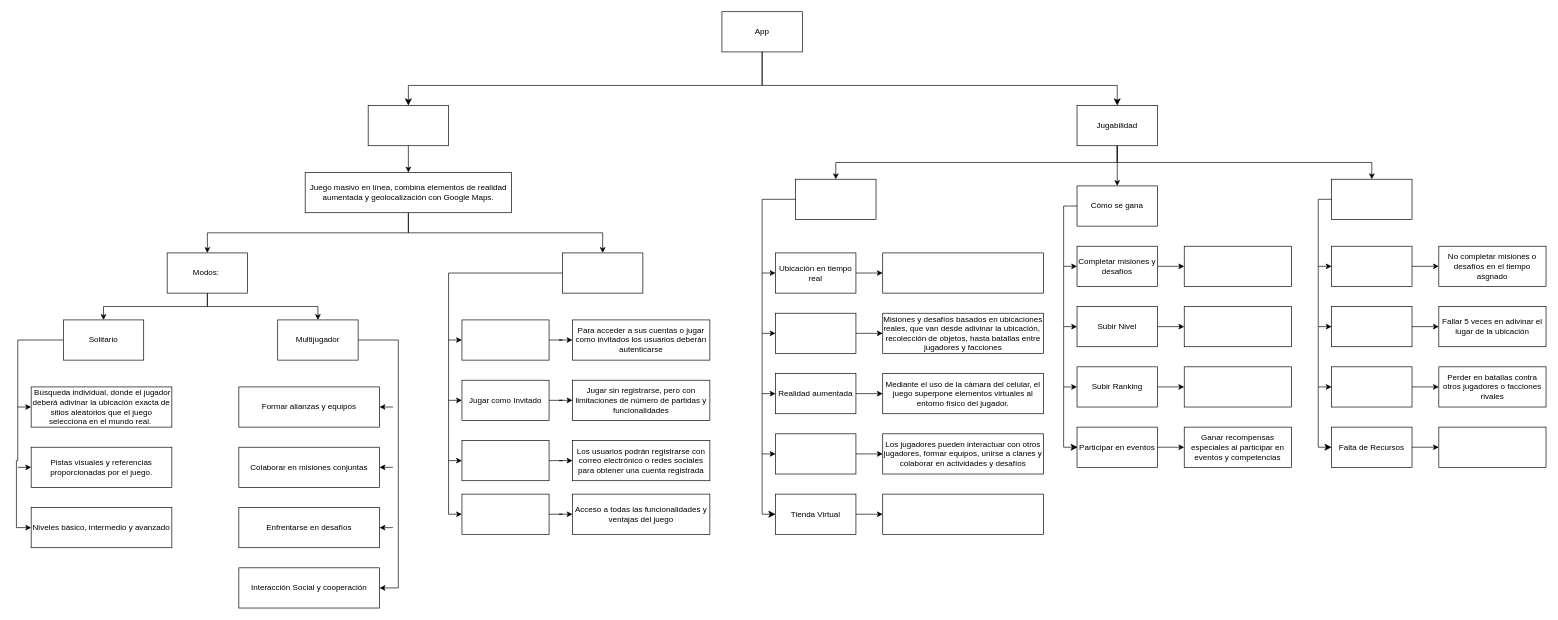
Some shapes in this 1558 by 620 pixel diagram are drawn without their labels. The box of each missing label's shape, as (x1, y1, x2, y2) in pixels:
Concepto: (367, 105, 449, 146)
Crear Cuenta: (461, 440, 549, 481)
Cómo se pierde:: (1331, 179, 1412, 219)
Derrota en Batallas: (1331, 366, 1412, 407)
El jugador estará ubicado en el mapa según su ubicación en tiempo real: (882, 252, 1044, 293)
Falla en misiones: (1331, 306, 1412, 347)
Ganar experiencia y subir nivel para desbloquar nuevas habilidades y recompensas: (1184, 306, 1291, 347)
Ganar puntos y recompensas al completar misiones y superar desafíos: (1184, 246, 1291, 286)
Iniciar Sesión: (461, 319, 549, 360)
Interacción Social: (775, 433, 856, 474)
Jugar como usuario Registrado: (461, 493, 549, 534)
Mecánicas principales: (795, 179, 876, 219)
Misiones y desafíos: (775, 313, 856, 353)
No completar misiones: (1331, 246, 1412, 286)
Opciones de Usuario: (562, 252, 643, 293)
Quedarse sin recursos, monedas o elementos esenciales para avanzar: (1438, 426, 1546, 467)
Se podrán comprar elementos y mejoras, utilizando monedas virtuales: (882, 493, 1044, 534)
